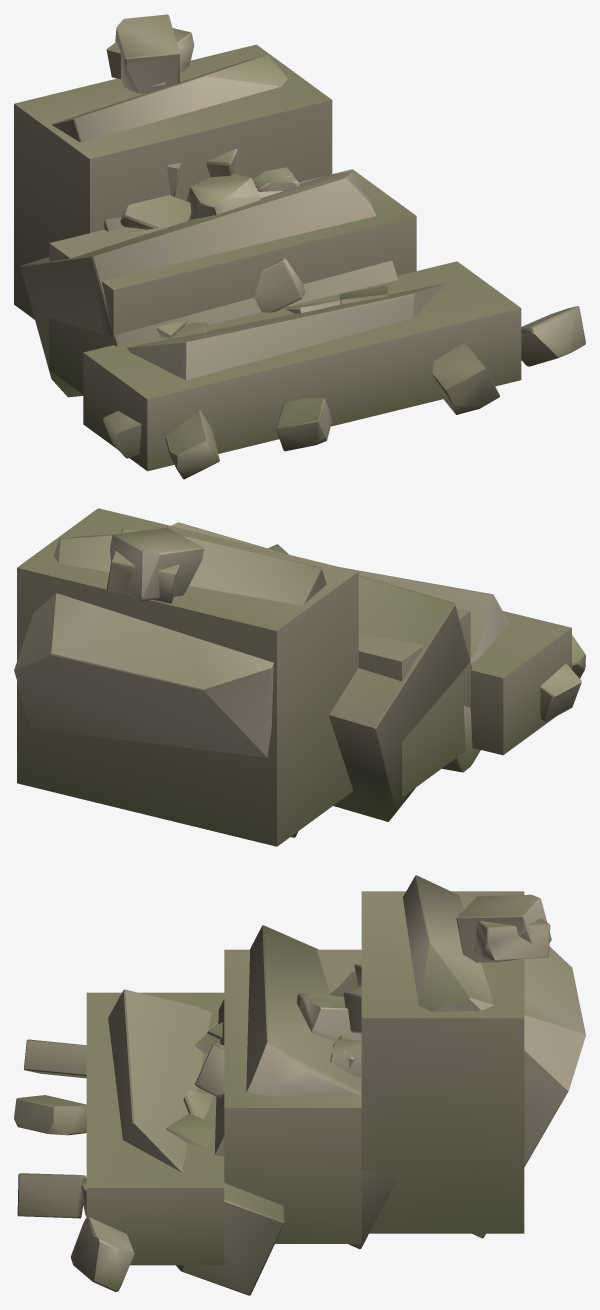
The model's file is sanctuary_spill.glb.
3 renders of one model, top to bottom at view 1: azimuth 30°, elevation 25°; view 2: azimuth 150°, elevation 25°; view 3: azimuth 270°, elevation 25°, orthographic. The views are drawn at different scales.
Visible parts, largest first — view 1: sanctuary_spill_far, sanctuary_spill; view 2: sanctuary_spill_far, sanctuary_spill; view 3: sanctuary_spill_far, sanctuary_spill.
Boxes of the visible parts, x1,y1,x2,y2 form: sanctuary_spill_far: (14,44,521,471); sanctuary_spill: (20,14,585,479); sanctuary_spill_far: (17,508,571,846); sanctuary_spill: (14,522,585,837); sanctuary_spill_far: (86,891,524,1265); sanctuary_spill: (14,875,585,1295).
Bounding box in the file's own units: 22.86 × 13.66 × 22.88.
